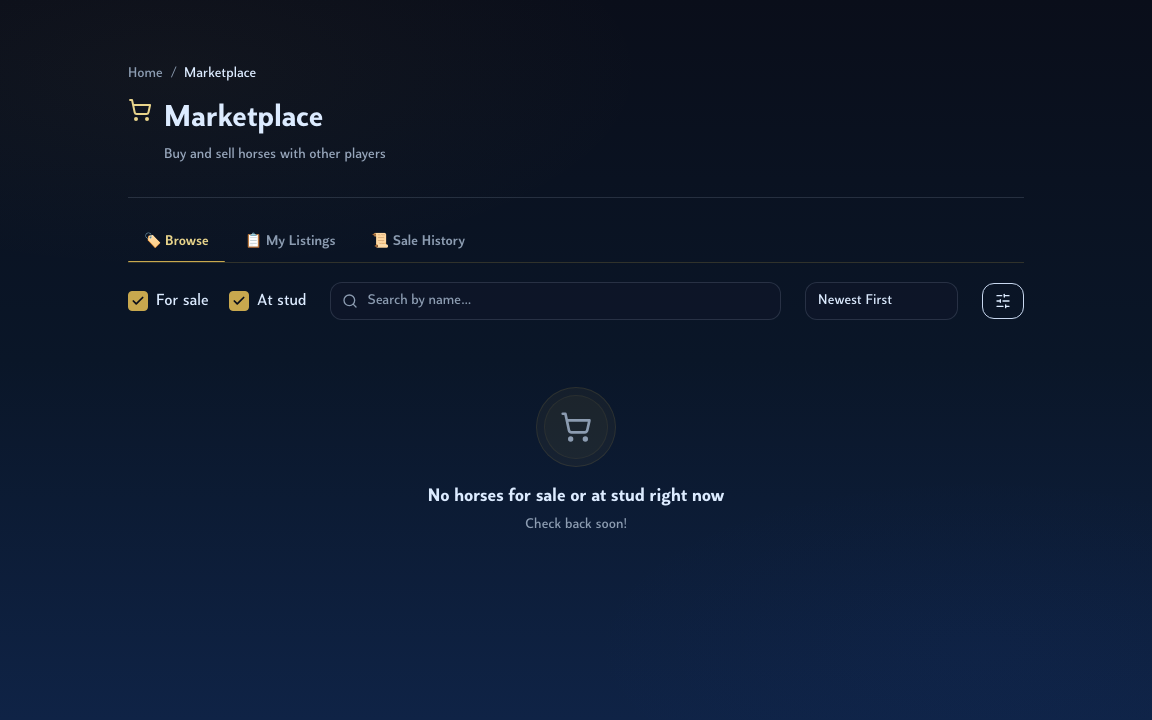
Test: HorseMarketplacePage — My Listings + History tabs four-state (Equoria-l22ki) › My Listings: renders rows on a successful fetch with data
Click the tab with test id "tab-my-listings".
click(290, 242)  # box [229,222,352,262]
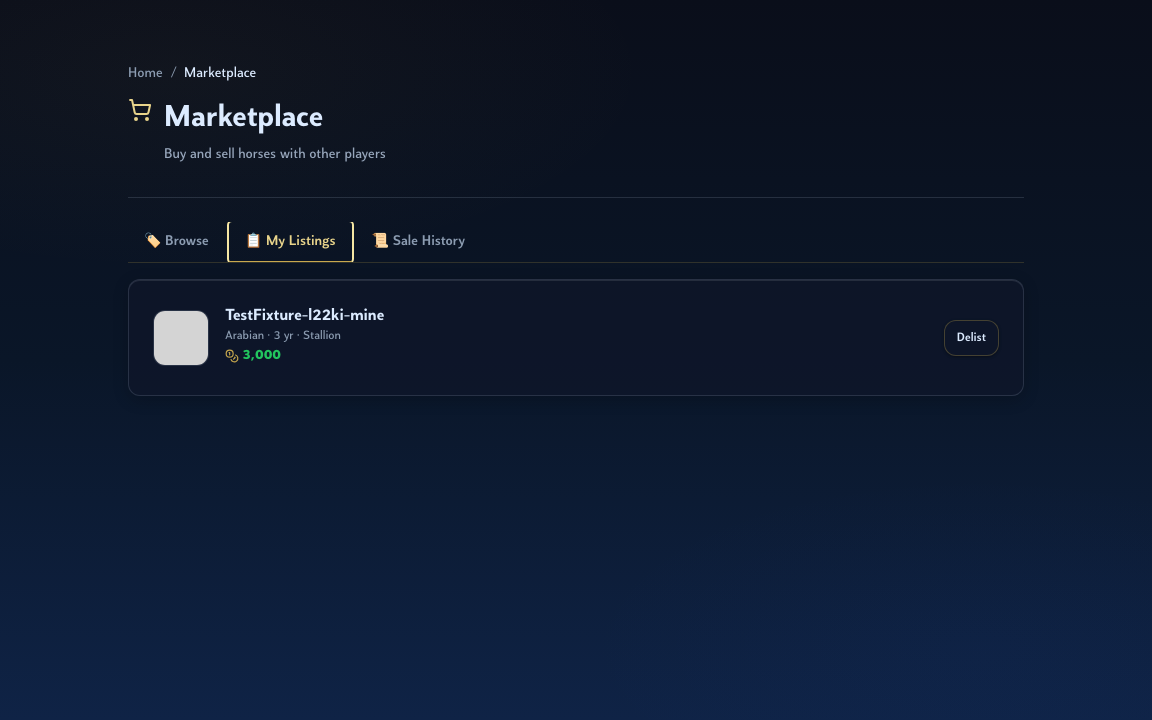
Result: the text "TestFixture-l22ki-mine" is shown at [225,308,384,324]
